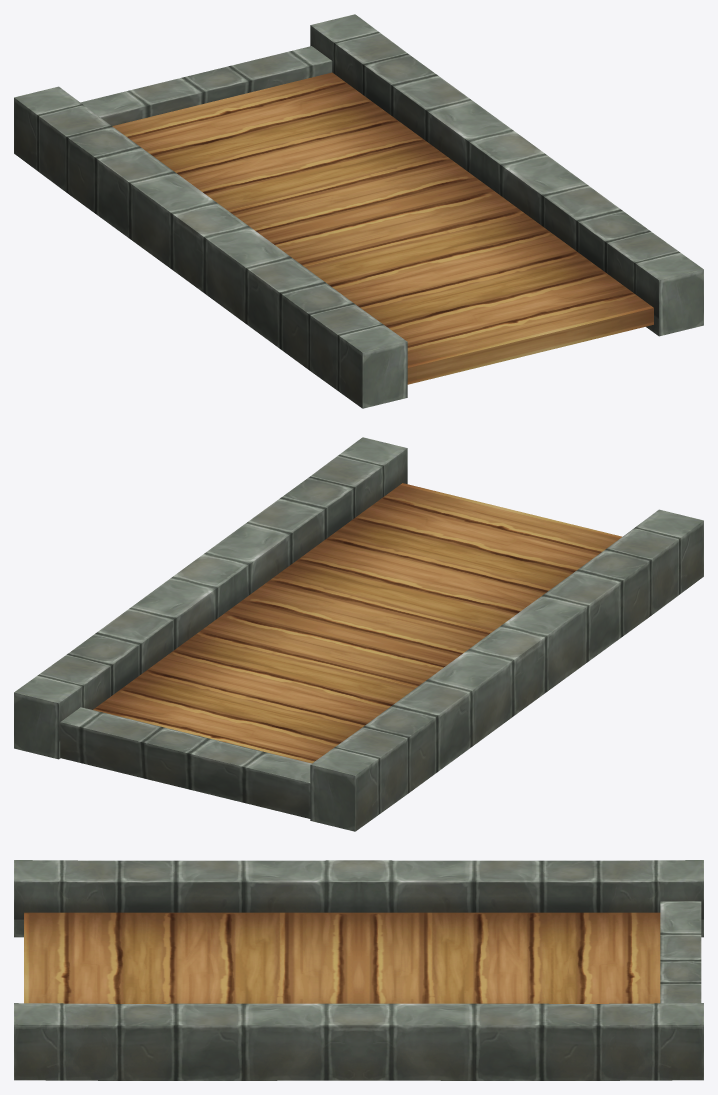
The model's file is bridge_03b_tile_07.fbx.
The picture shows the model from 3 angles, top to bottom: view 1: azimuth 30°, elevation 25°; view 2: azimuth 150°, elevation 25°; view 3: azimuth 270°, elevation 25°; orthographic projection.
Parts seen in each view (by area): view 1: bridge_03b_tile_07; view 2: bridge_03b_tile_07; view 3: bridge_03b_tile_07.
Boxes of the visible parts, left/top/right/bottom form: bridge_03b_tile_07: left=14, top=14, right=703, bottom=408; bridge_03b_tile_07: left=14, top=437, right=703, bottom=831; bridge_03b_tile_07: left=14, top=860, right=703, bottom=1080.
Size of the model in its own units: 2.37 by 0.3764 by 4.19.
